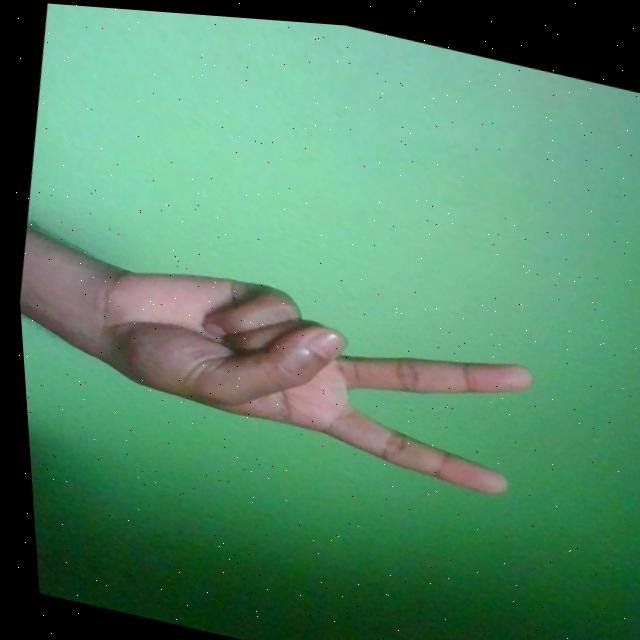Peace: (72, 244, 538, 495)
